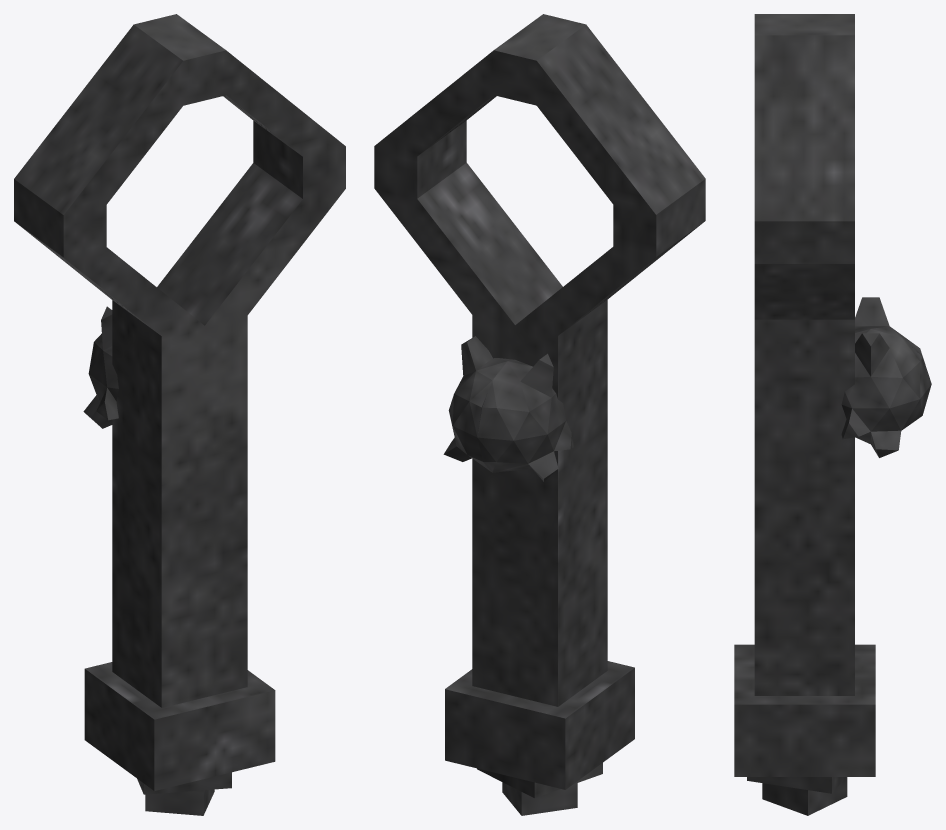
Rendered from key.glb.
3 views of the same model, side by side, from view 1: azimuth 30°, elevation 25°; view 2: azimuth 150°, elevation 25°; view 3: azimuth 270°, elevation 25° (orthographic).
Visible parts, largest first — view 1: Wolf; view 2: Wolf; view 3: Wolf.
Part boxes in pixels (x1,y1,x2,y2): Wolf: (14, 14, 345, 815); Wolf: (374, 14, 705, 815); Wolf: (734, 14, 931, 815).
Bounding box in the file's own units: 0.5751 × 1.49 × 0.3441.
1 material, 1 textured.
